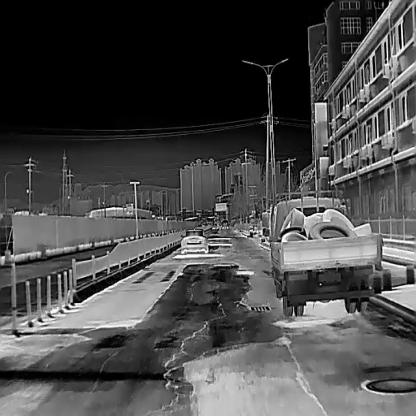car: (181, 228, 208, 254)
truck: (270, 189, 382, 316)
